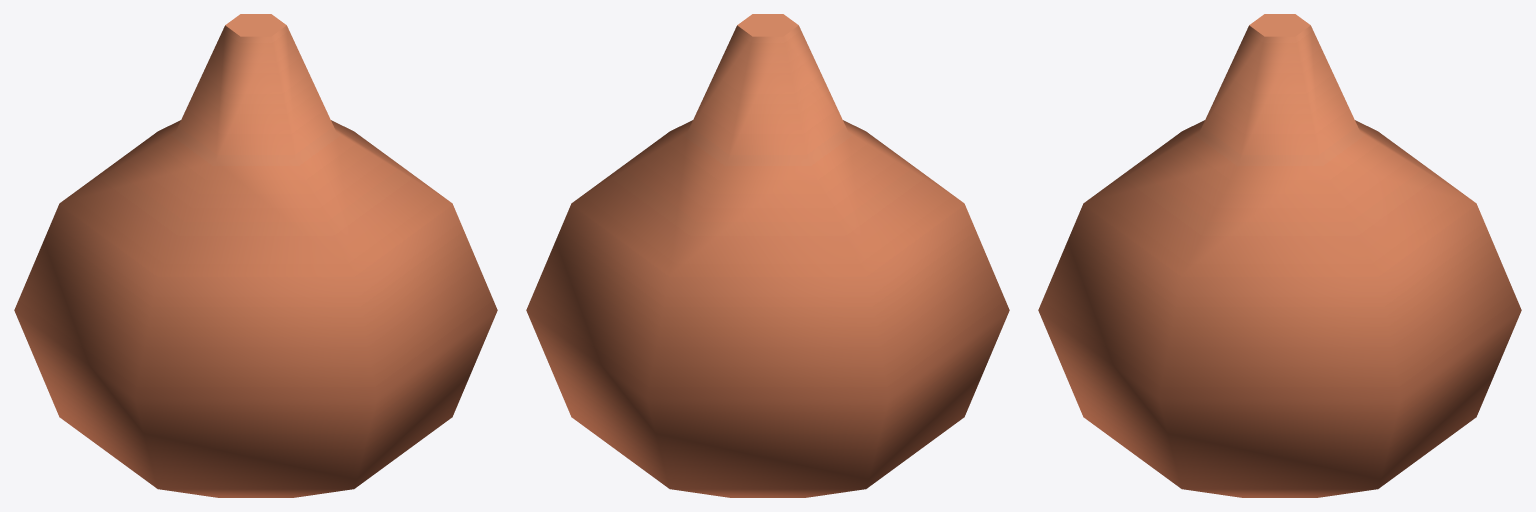
File: onion-harvest.glb
3 renders of one model, left to right at view 1: azimuth 30°, elevation 25°; view 2: azimuth 150°, elevation 25°; view 3: azimuth 270°, elevation 25°, orthographic.
Visible parts, largest first — view 1: onion; view 2: onion; view 3: onion.
Part boxes in pixels (x1,y1,x2,y2): onion: (14,14,497,497); onion: (526,14,1009,497); onion: (1038,14,1521,497).
Size of the model in its own units: 0.8522 by 1 by 0.984.
Materials: 1 (1 with a texture image).
